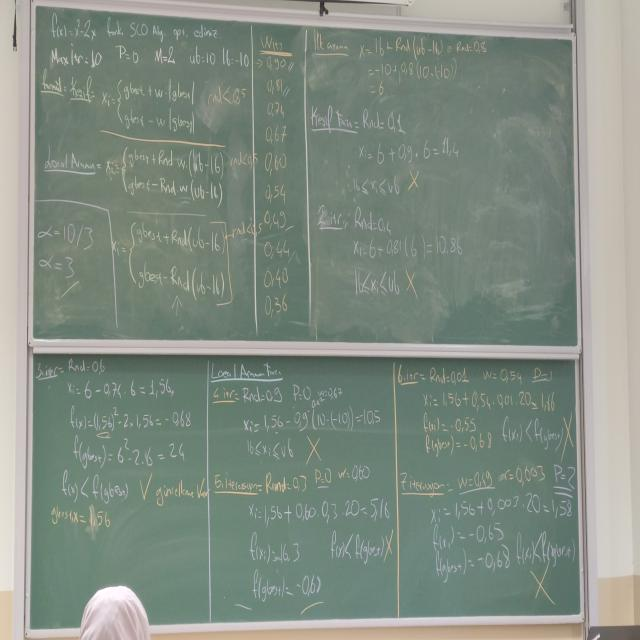math: (253, 25, 305, 331), (110, 208, 242, 315), (350, 200, 468, 300), (351, 107, 462, 201), (104, 134, 230, 213), (356, 34, 490, 100), (100, 72, 202, 146), (34, 208, 106, 295), (116, 37, 254, 78), (40, 4, 101, 49), (206, 78, 249, 110)
text: (41, 138, 99, 184), (39, 66, 98, 110), (308, 96, 356, 134), (309, 26, 352, 60), (312, 198, 345, 238)
